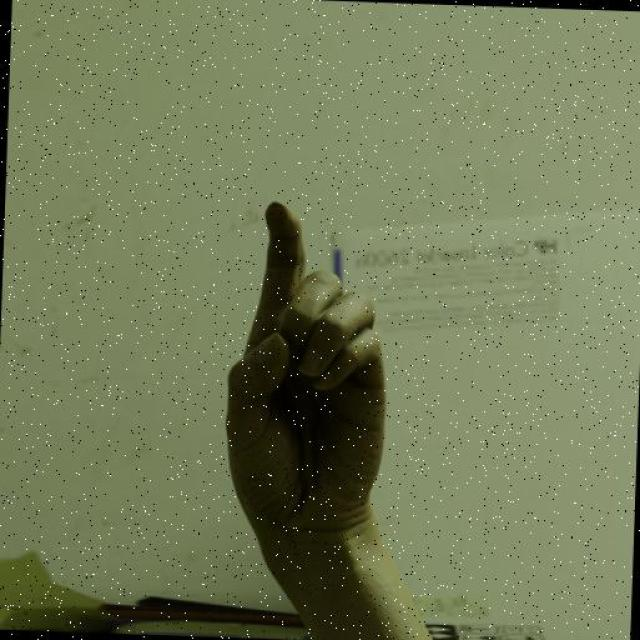X: (217, 195, 397, 534)
